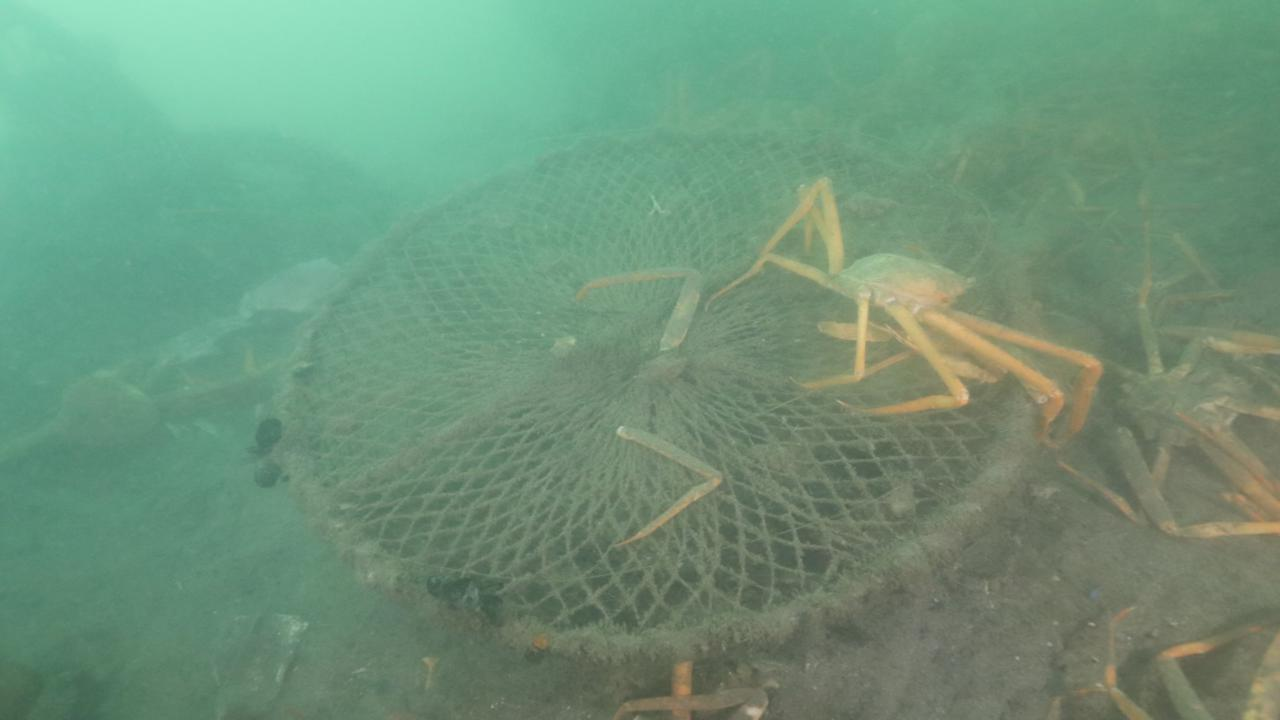circular fish trap: (279, 119, 1053, 654)
